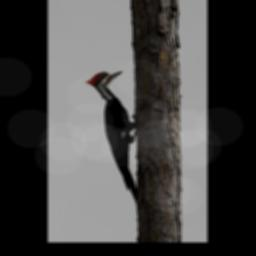Woodpecker: (85, 70, 137, 208)
